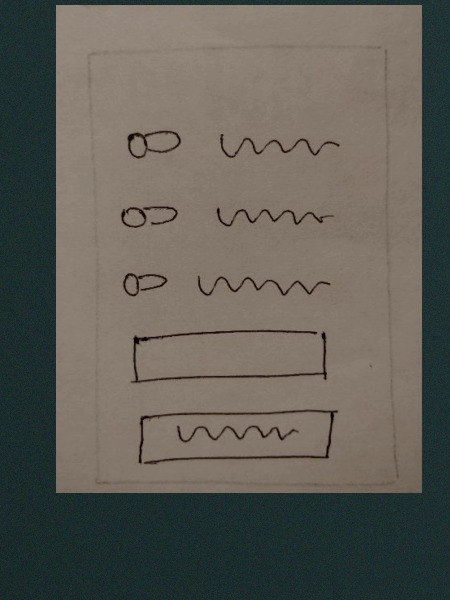switch: (120, 117, 191, 166), (113, 194, 184, 237), (115, 264, 179, 305)
text: (190, 255, 337, 312), (211, 121, 345, 169), (206, 192, 340, 234)
text_input: (120, 320, 334, 390)
